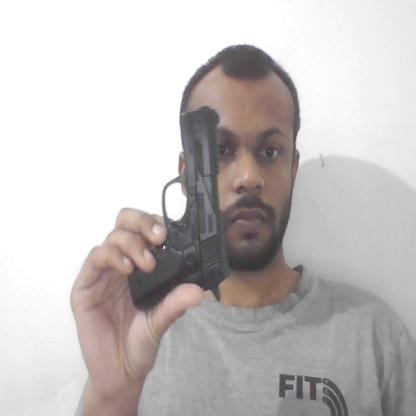handgun: (129, 103, 231, 312)
